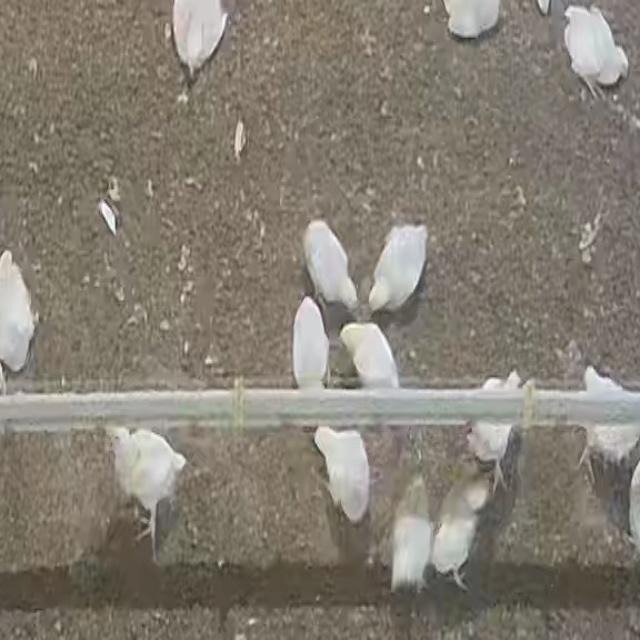chicken: (104, 428, 194, 554), (362, 216, 432, 319), (307, 423, 373, 529), (433, 463, 486, 592), (298, 212, 362, 318), (389, 469, 433, 600), (338, 320, 404, 392), (286, 294, 332, 390)
